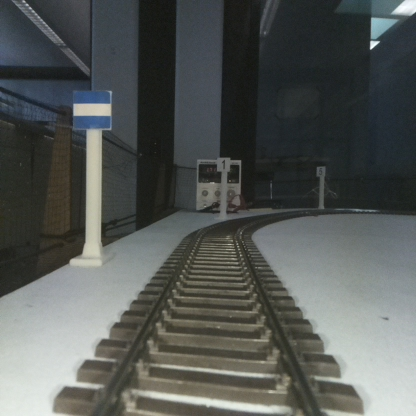start: (73, 90, 111, 266)
white-info-1: (216, 156, 229, 217)
white-info-5: (317, 166, 324, 205)
